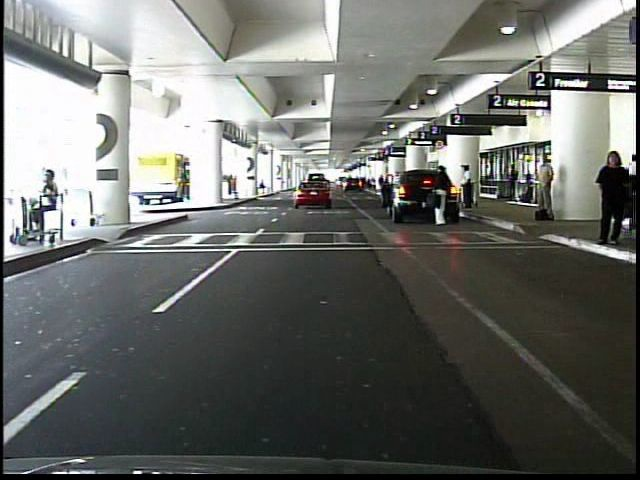person: (594, 148, 631, 247), (16, 165, 63, 241), (618, 153, 640, 220), (434, 164, 451, 226), (458, 164, 474, 211), (508, 162, 520, 201)
